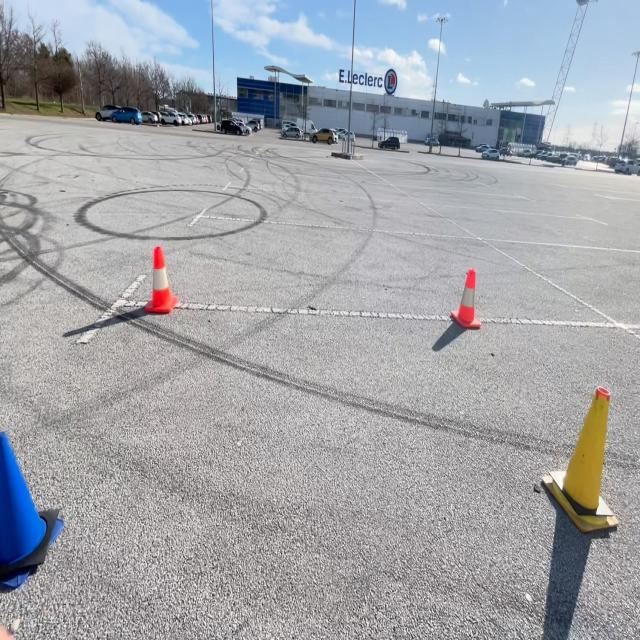blue_cone: (0, 340, 56, 594)
orange_cone: (143, 243, 180, 315), (452, 266, 482, 328)
yellow_cone: (540, 383, 618, 534)
